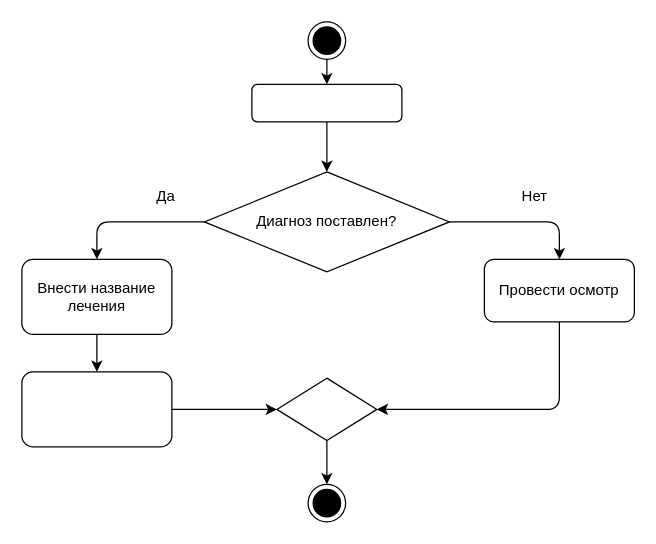
Image size: 656x544. Some labels were removed from this diagram. Each missing label, with the box of its shape:
Изучить карту пациента: (251, 83, 402, 122)
Описать процесс лечения: (21, 371, 172, 447)
